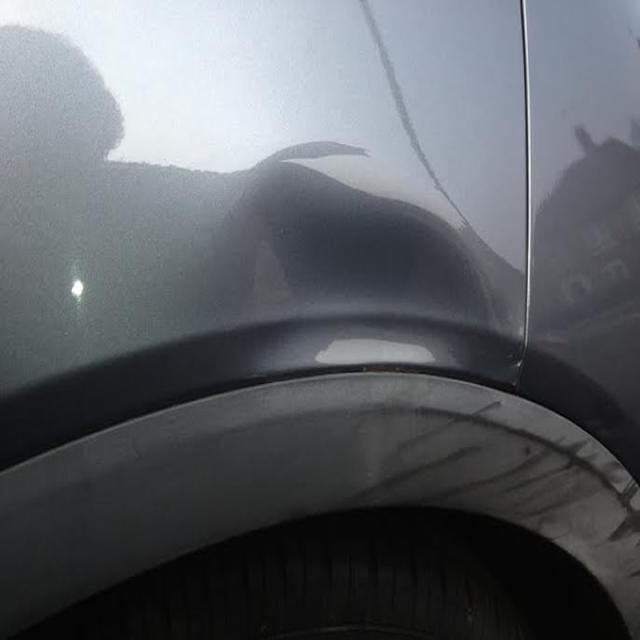dent: (232, 165, 520, 391)
scratch: (418, 430, 640, 585), (348, 399, 508, 494)
